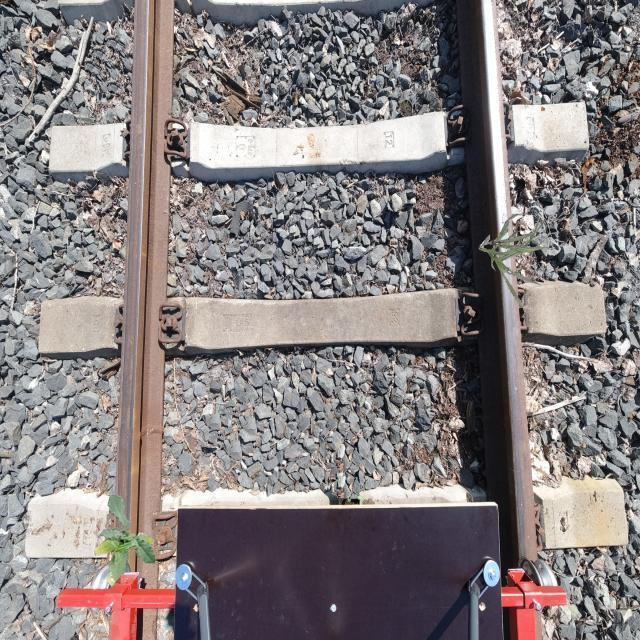Plant: (479, 214, 552, 308), (94, 493, 156, 586)
